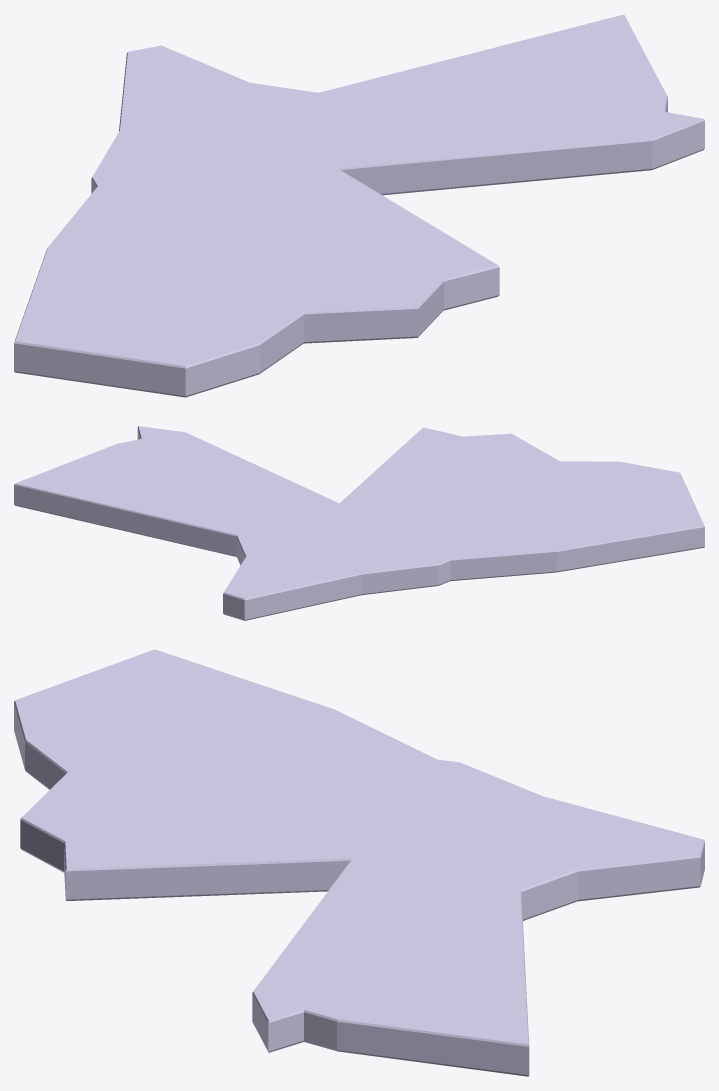
The model's file is JOR.glb.
3 renders of one model, top to bottom at view 1: azimuth 30°, elevation 25°; view 2: azimuth 150°, elevation 25°; view 3: azimuth 270°, elevation 25°, orthographic. The views are drawn at different scales.
Size of the model in its own units: 1.8 by 0.068 by 1.33.
